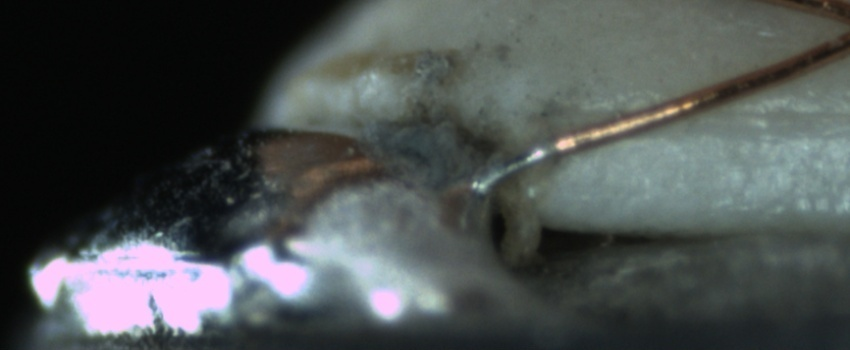CL: (828, 4, 850, 53)
DL: (628, 82, 847, 158)
TS: (470, 141, 554, 193)
